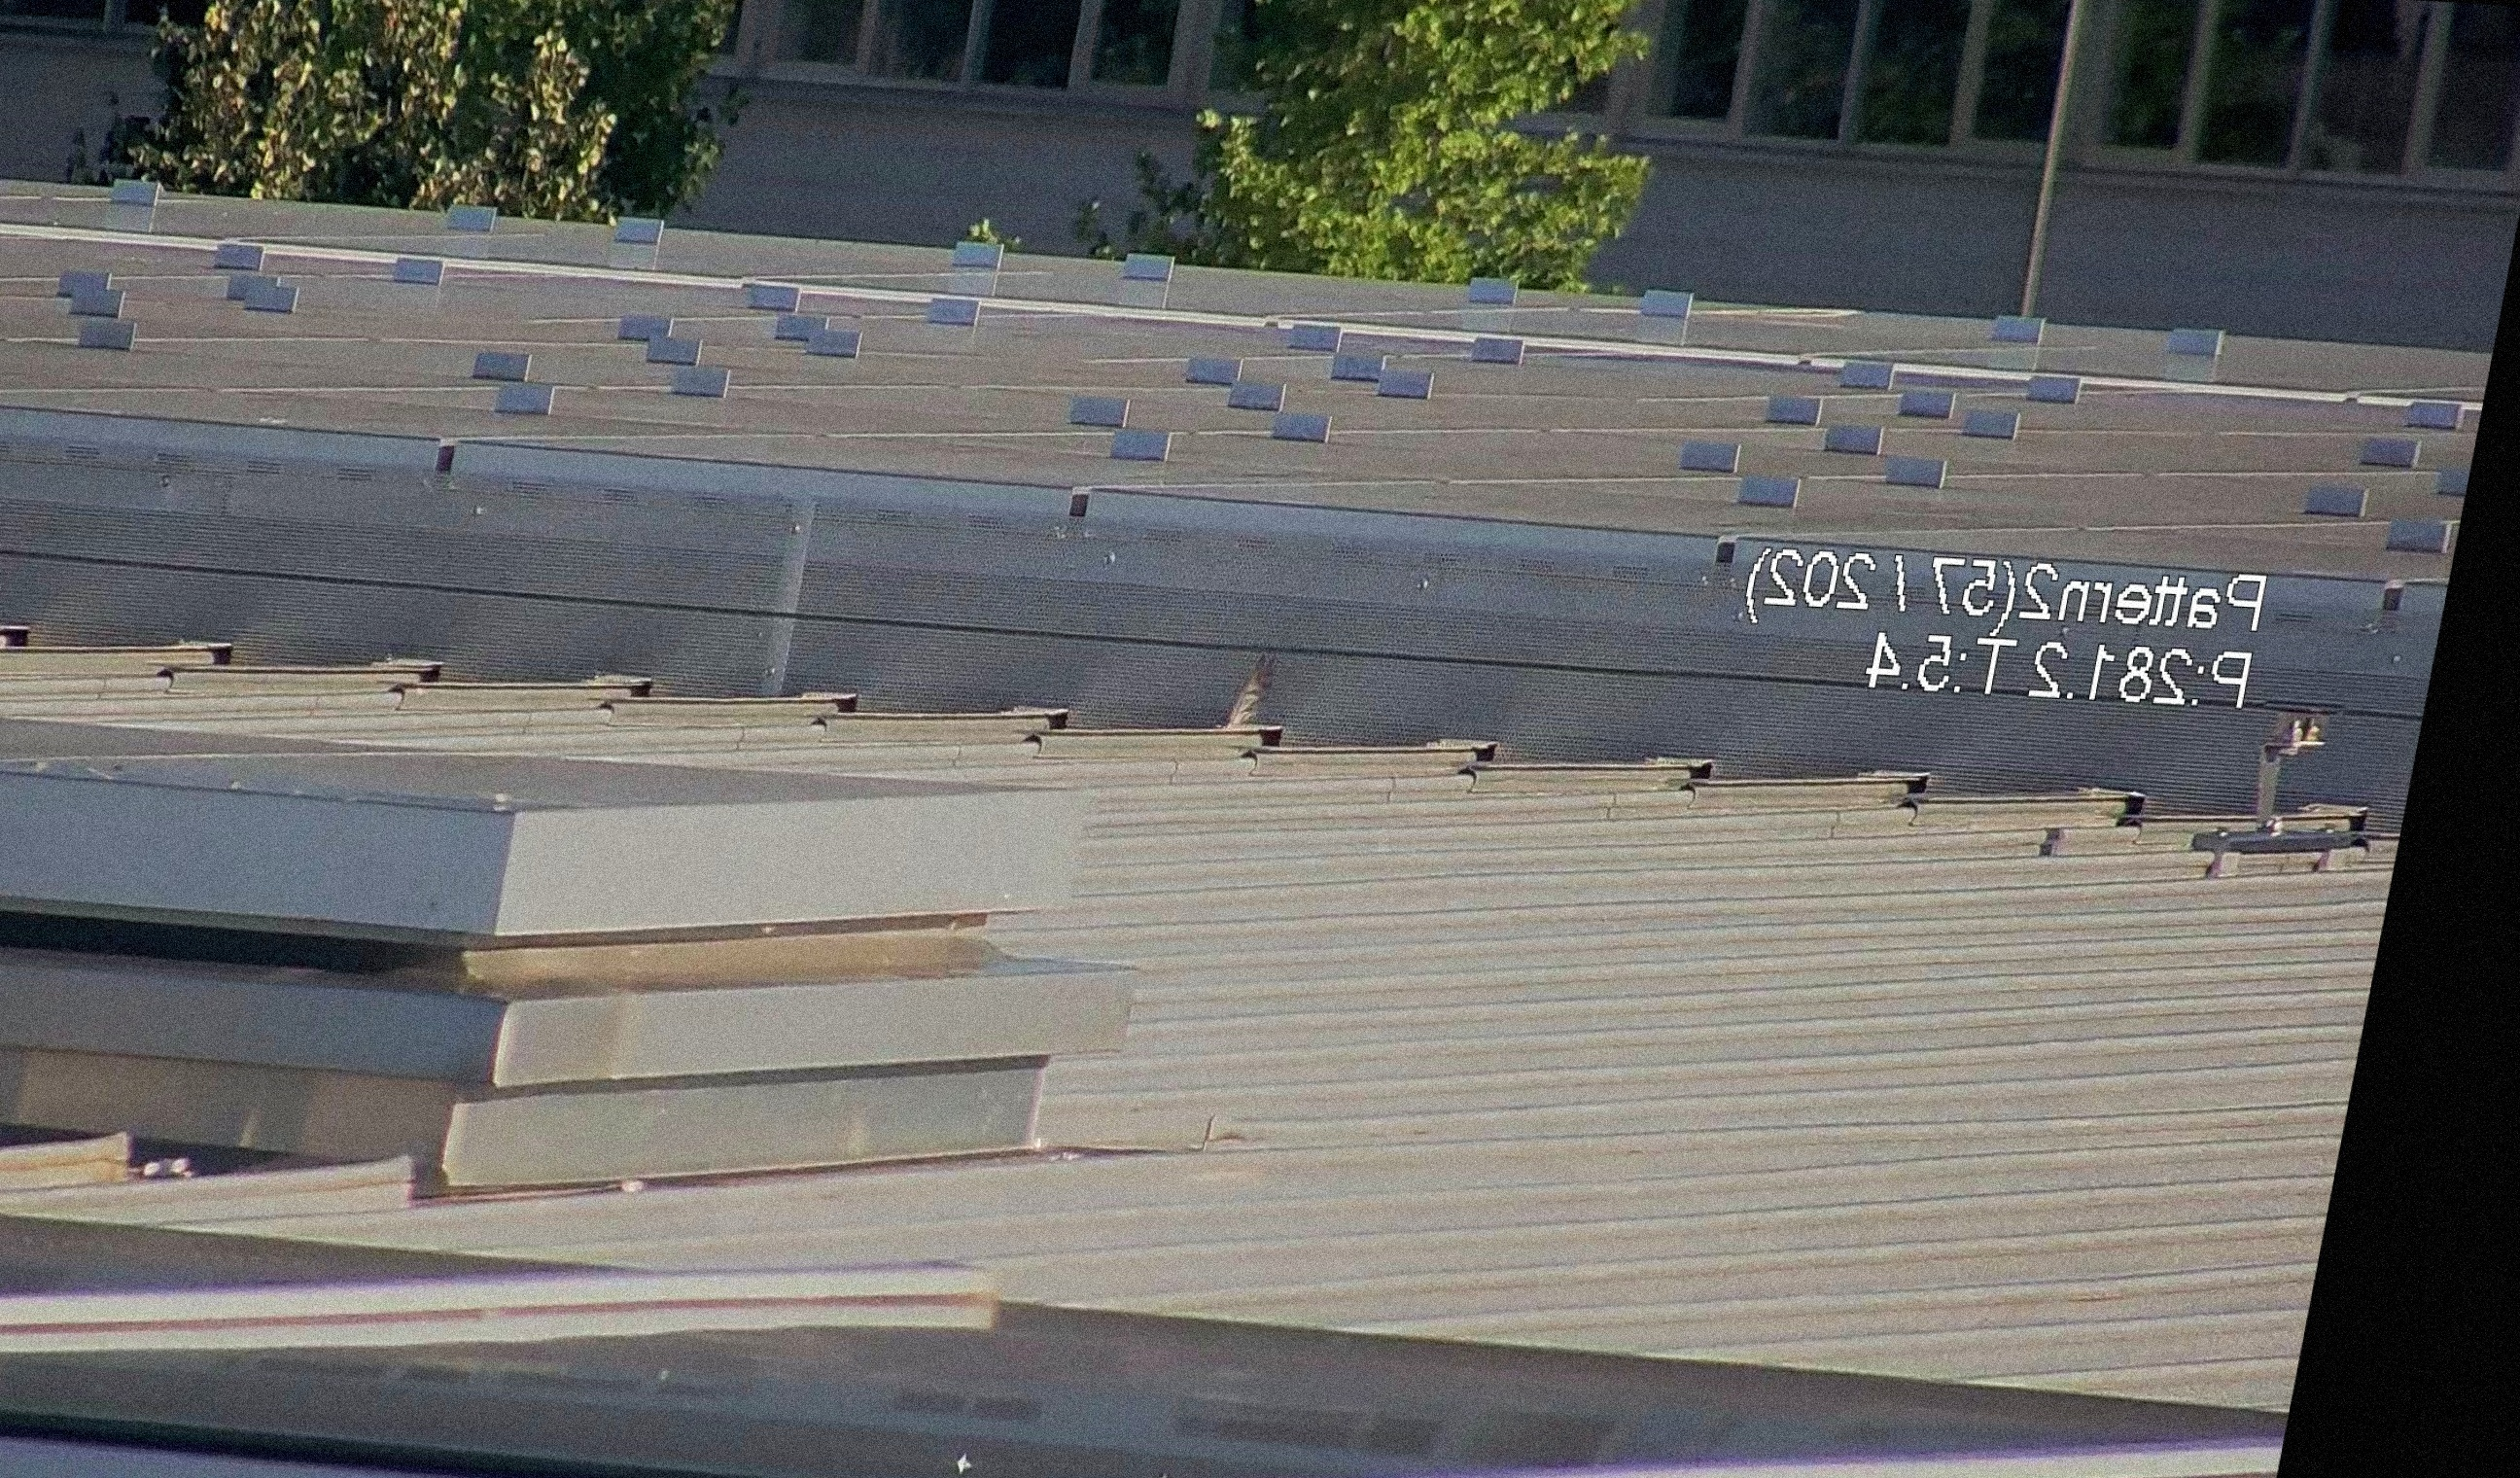Other: (1206, 633, 1312, 765)
